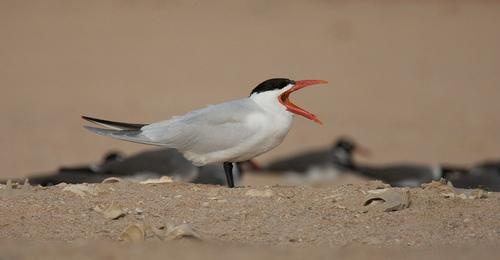bird: (76, 71, 330, 190)
